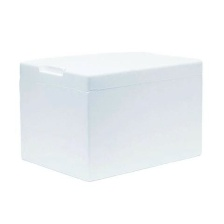foam_box: (11, 42, 209, 184)
